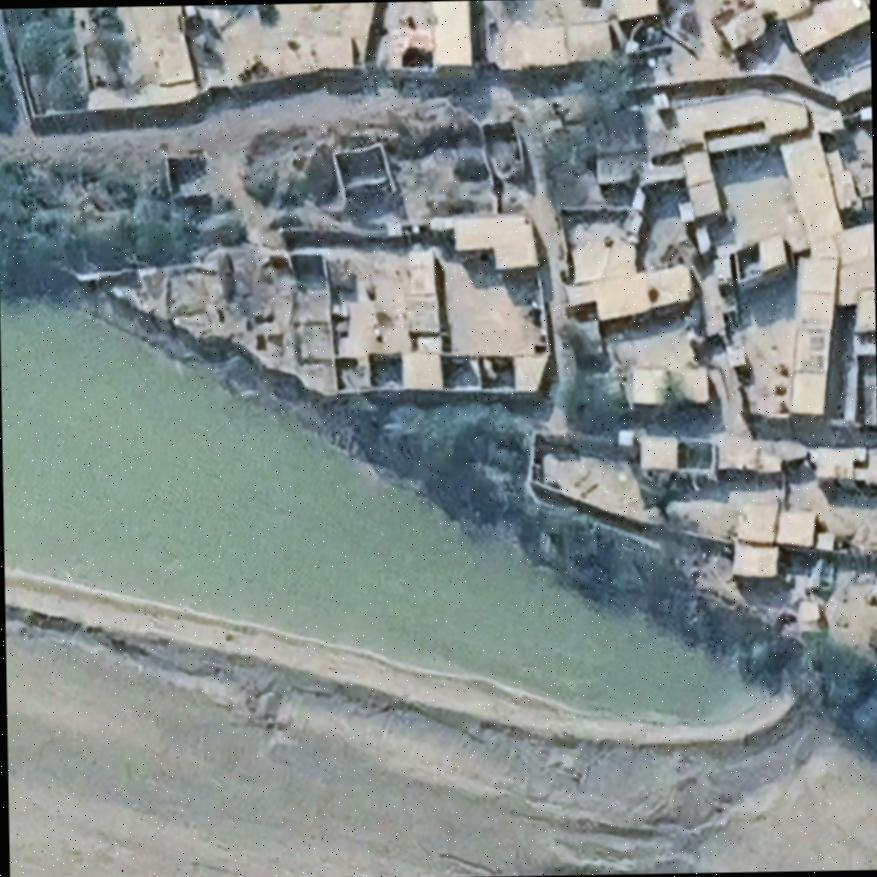Solarpanel: (794, 329, 826, 374)
